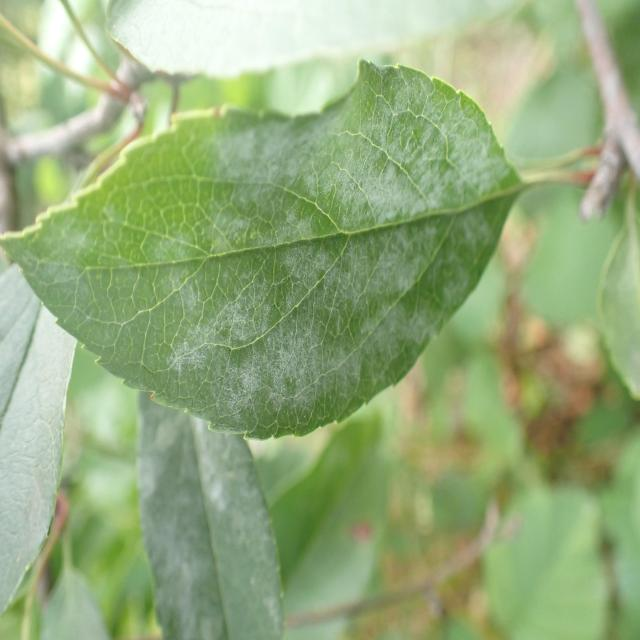Powdery_mildew: (39, 65, 513, 431), (116, 374, 293, 640)
